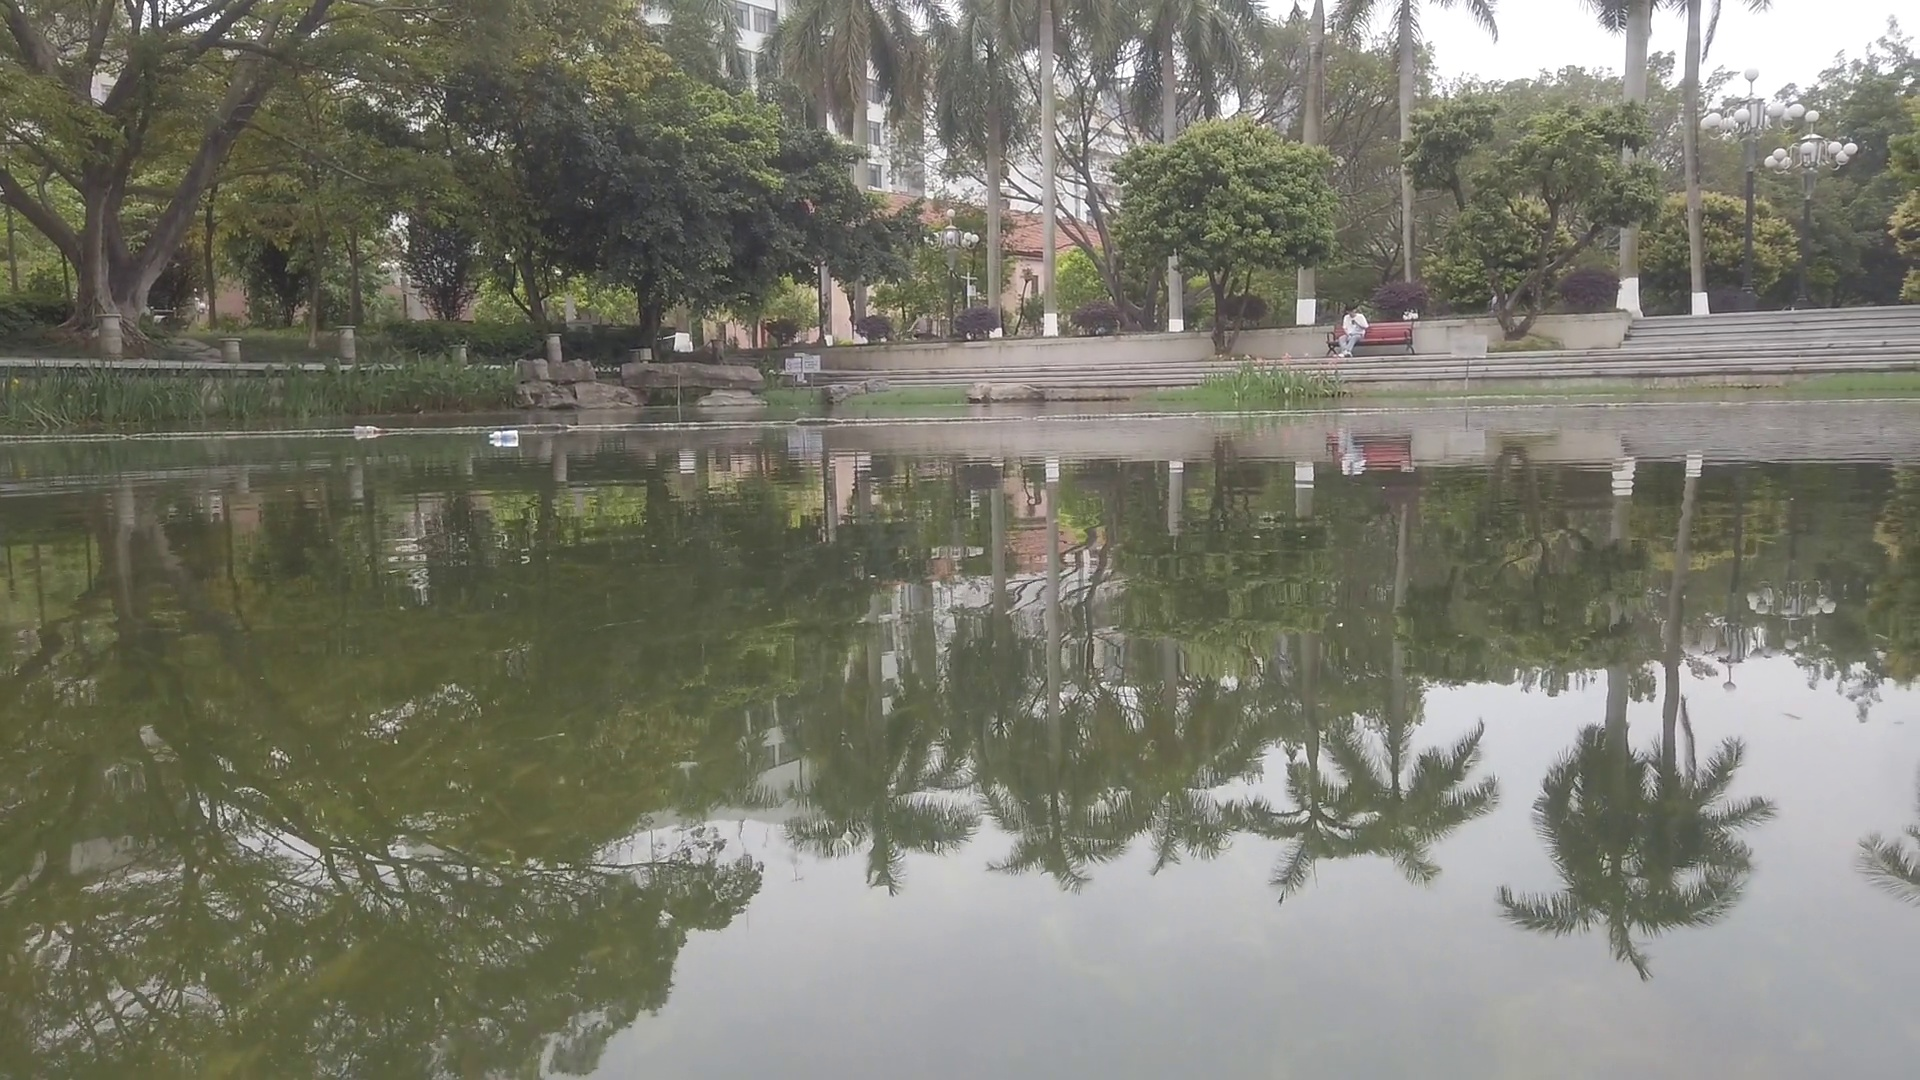bottle: (491, 430, 520, 440), (355, 426, 382, 434)
